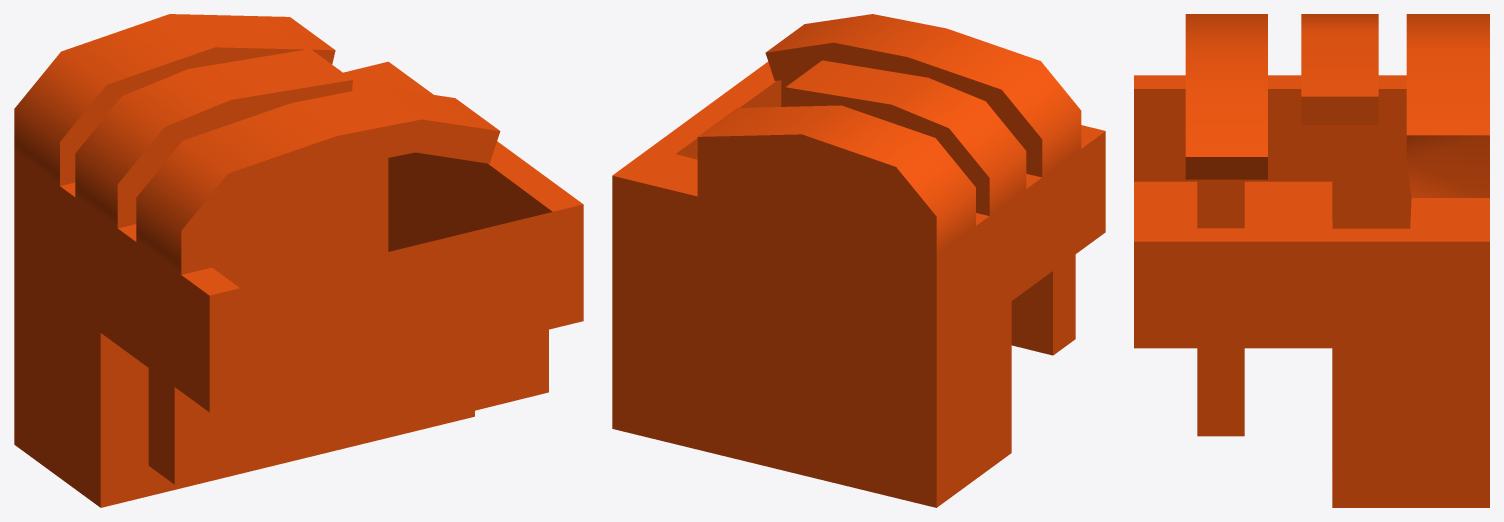
Rendered from Hair Male 07.FBX.
3 renders of one model, left to right at view 1: azimuth 30°, elevation 25°; view 2: azimuth 150°, elevation 25°; view 3: azimuth 270°, elevation 25°, orthographic. The views are drawn at different scales.
Parts seen in each view (by area): view 1: Hair Male 07; view 2: Hair Male 07; view 3: Hair Male 07.
Part boxes in pixels (box(x1,y1,x2,y2)): Hair Male 07: box(14, 14, 583, 507); Hair Male 07: box(612, 14, 1105, 507); Hair Male 07: box(1134, 14, 1489, 507).
Bounding box in the file's own units: 52.09 × 52.28 × 47.05.
1 material, 1 textured.
